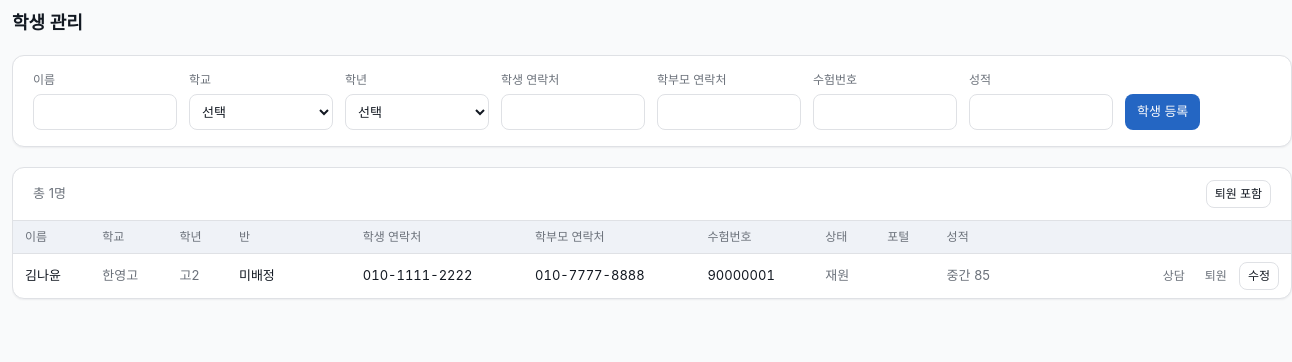
StudentsPage › hides withdrawn students until the filter is on
The width and height of the screenshot is (1292, 362).
Expected: the text "김나윤" is shown, [13, 253, 90, 298]
Expected: the text "박서준" is not shown
Click the button "퇴원 포함": [1238, 194] box [1206, 180, 1271, 208]
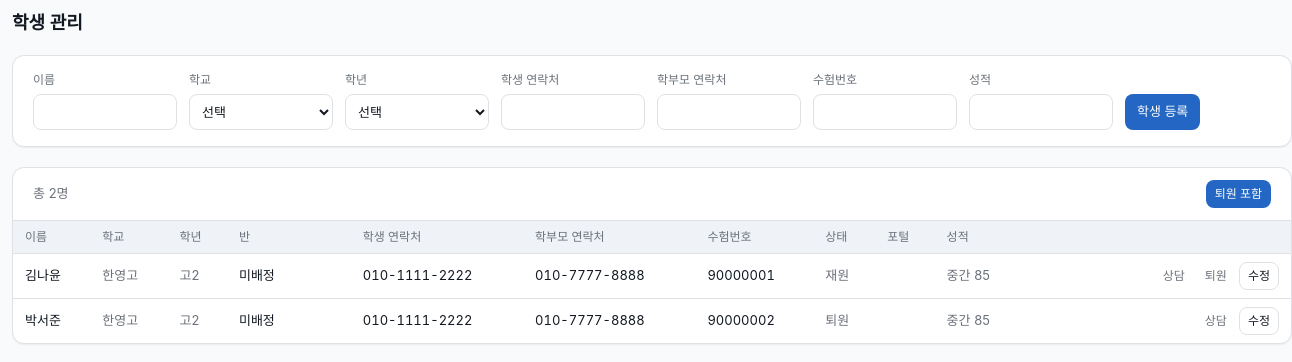
Now the text "박서준" is shown, box [13, 298, 90, 342]
